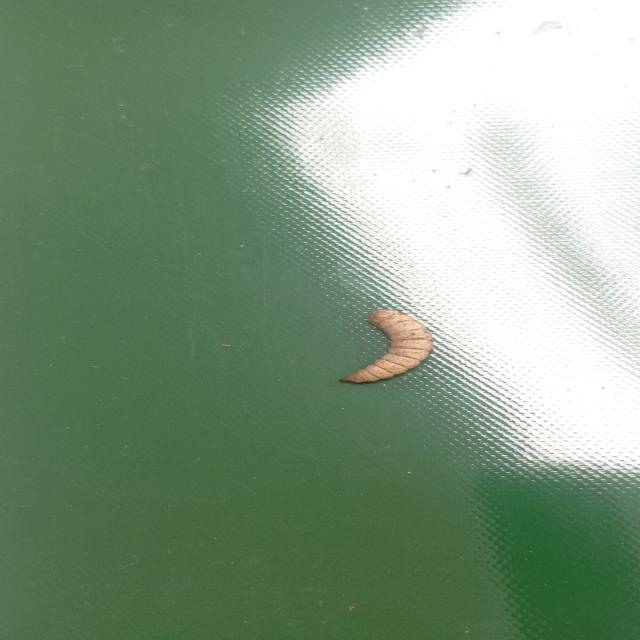Maggot: (340, 310, 433, 387)
